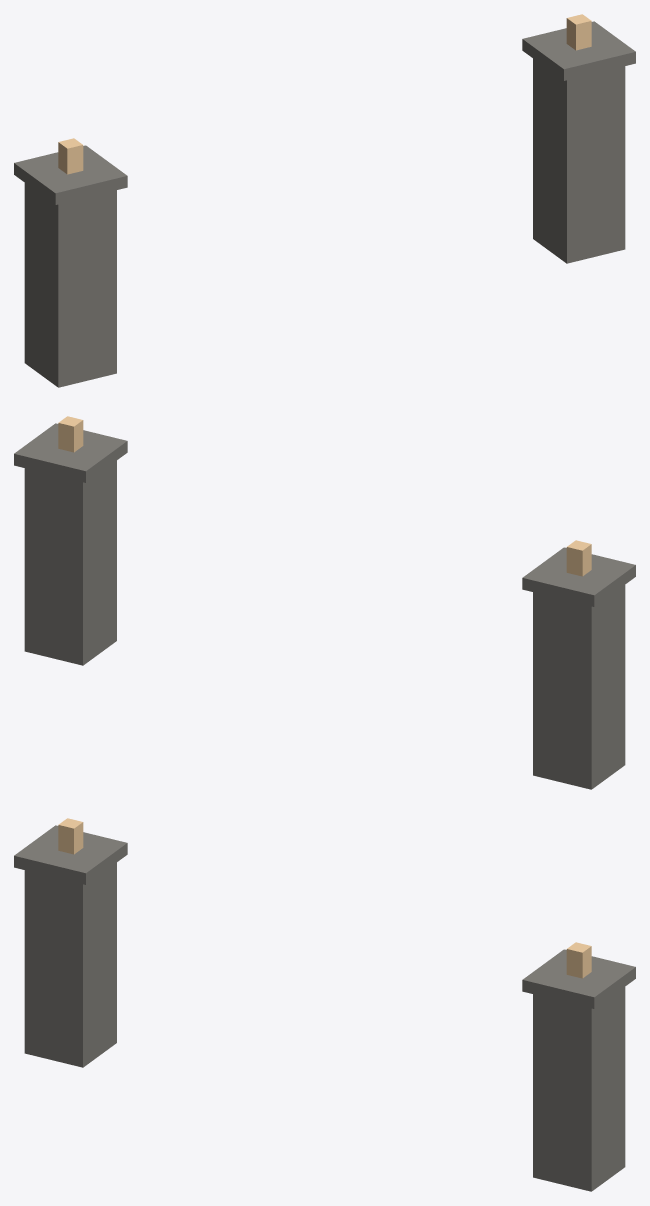
The model's file is SM_Guney_Kapisi_Sutunlar.fbx.
3 views of the same model, one above another, from view 1: azimuth 30°, elevation 25°; view 2: azimuth 150°, elevation 25°; view 3: azimuth 330°, elevation 25° (orthographic).
Parts seen in each view (by area): view 1: Guney_Kapisi_Sutunlar; view 2: Guney_Kapisi_Sutunlar; view 3: Guney_Kapisi_Sutunlar.
Boxes of the visible parts, <box> form: Guney_Kapisi_Sutunlar: <box>14,14,635,387</box>; Guney_Kapisi_Sutunlar: <box>14,416,635,789</box>; Guney_Kapisi_Sutunlar: <box>14,818,635,1191</box>.
Size of the model in its own units: 1290 by 478 by 160.
